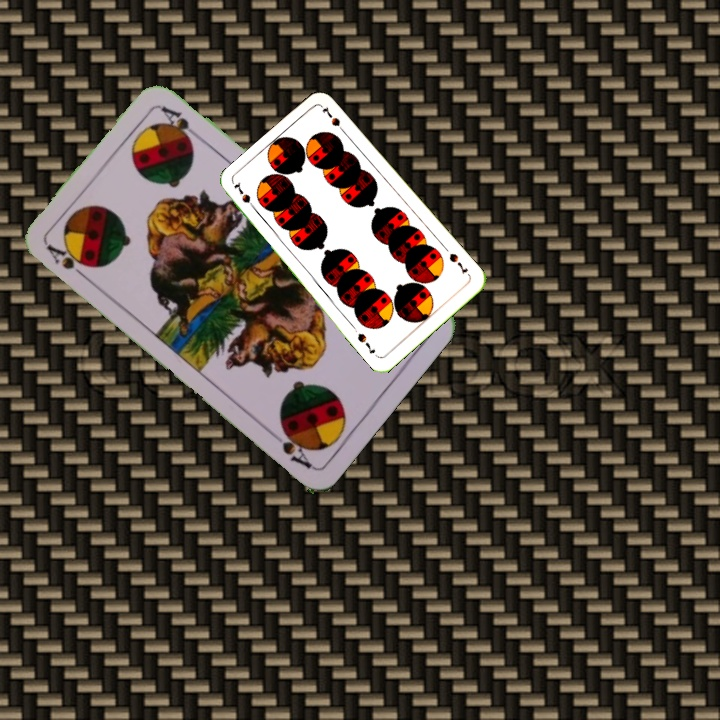S7: (229, 180, 260, 215), (445, 249, 471, 277)
SA: (43, 240, 93, 284)
